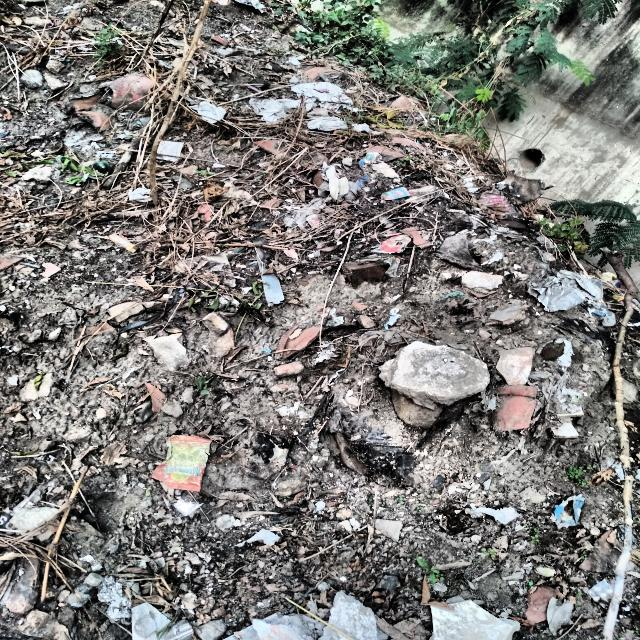anorganik: (148, 436, 218, 490)
